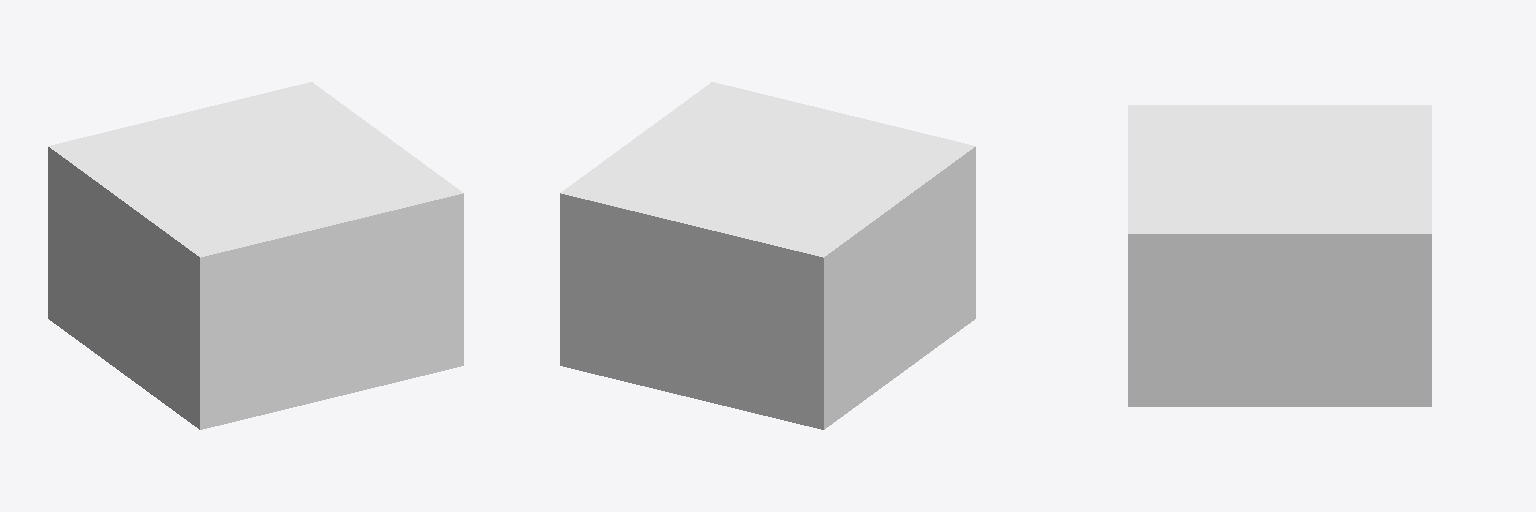
The model's file is tile-fullmountain.obj.
3 renders of one model, left to right at view 1: azimuth 30°, elevation 25°; view 2: azimuth 150°, elevation 25°; view 3: azimuth 270°, elevation 25°, orthographic.
Visible parts, largest first — view 1: tile-fullmountain; view 2: tile-fullmountain; view 3: tile-fullmountain.
Part boxes in pixels (bbox=[...]): tile-fullmountain: bbox=[48, 82, 463, 429]; tile-fullmountain: bbox=[560, 82, 975, 429]; tile-fullmountain: bbox=[1128, 105, 1431, 406].
Size of the model in its own units: 40 by 25 by 40.